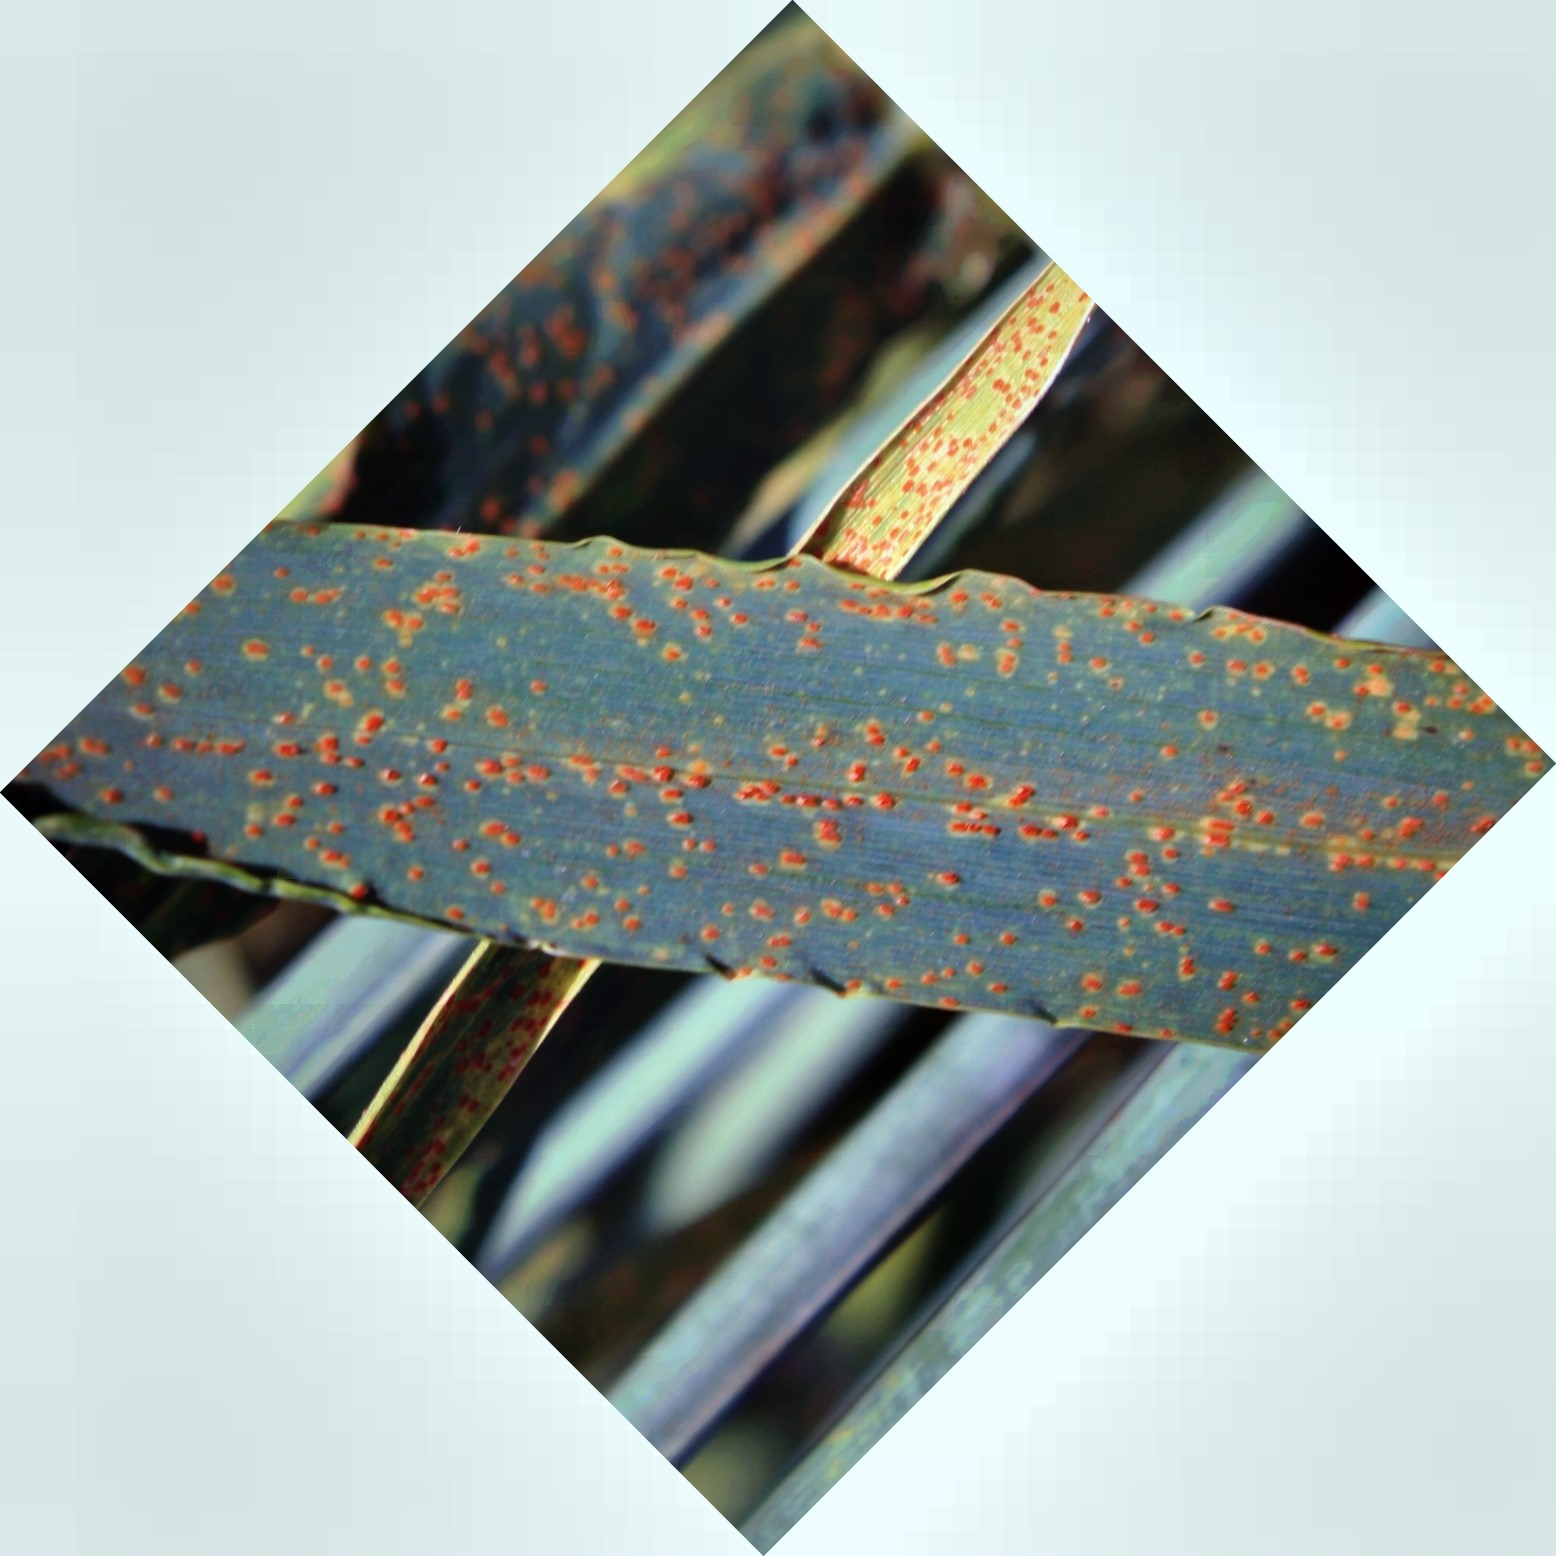Leaf Rust: (85, 445, 1325, 1059)
